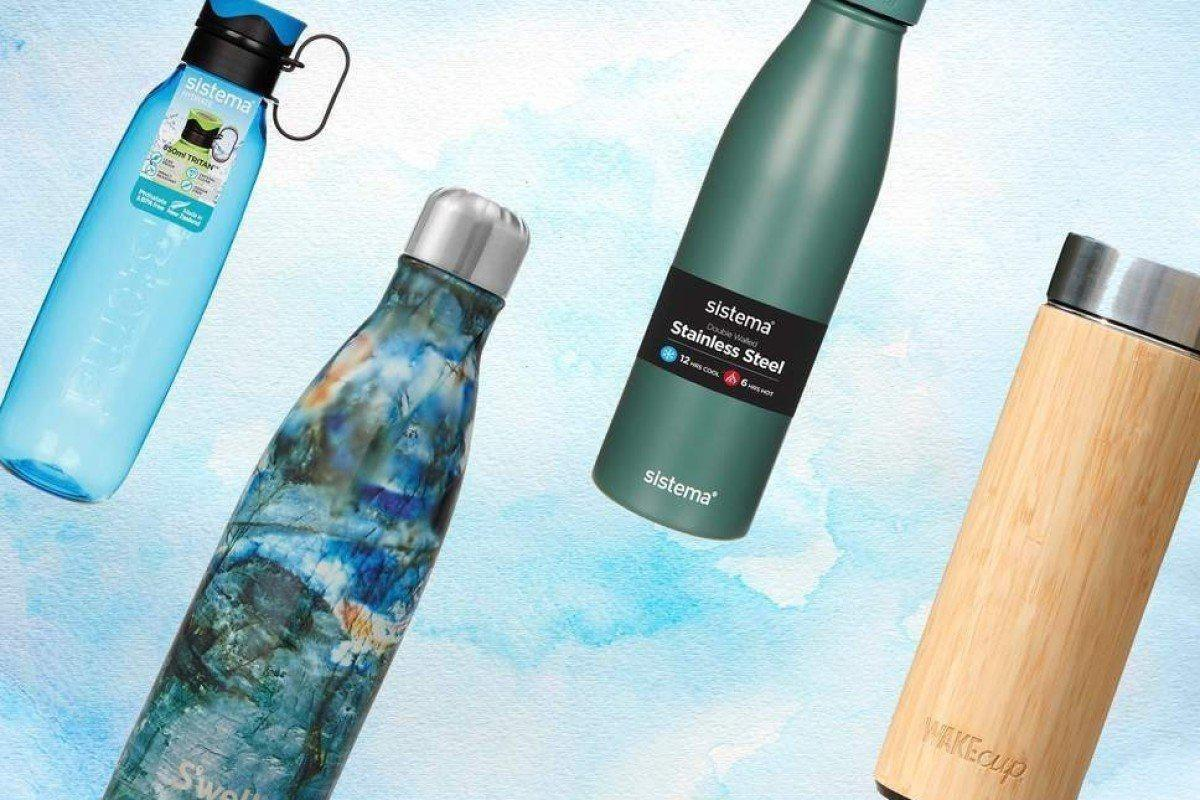gym bottle: (103, 188, 530, 799), (875, 225, 1199, 799), (589, 1, 927, 543), (1, 1, 305, 498)
